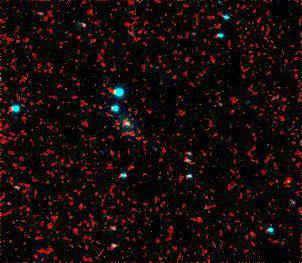star: (274, 164, 302, 194)
